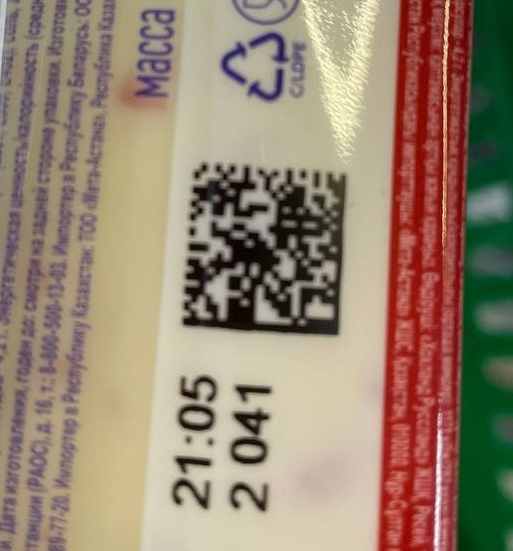2d: (181, 160, 348, 338)
